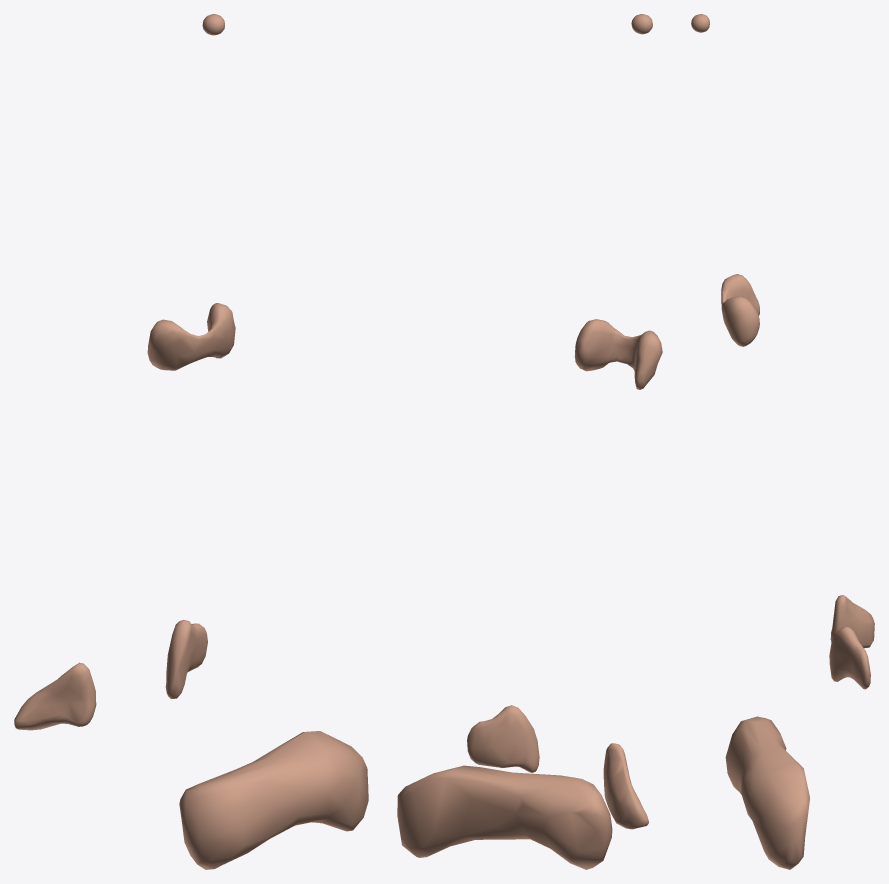
File: pediatric_child_5y_male.endocrine.LOD1.glb
3 views of the same model, side by side, from view 1: azimuth 30°, elevation 25°; view 2: azimuth 150°, elevation 25°; view 3: azimuth 270°, elevation 25° (orthographic). The views are drawn at different scales.
Parts seen in each view (by area): view 1: PEDIATRIC.CHILD_5Y.MALE.ENDOCRINE.PANCREAS, PEDIATRIC.CHILD_5Y.MALE.ENDOCRINE.THYROID, PEDIATRIC.CHILD_5Y.MALE.ENDOCRINE.ADRENAL.R, PEDIATRIC.CHILD_5Y.MALE.ENDOCRINE.ADRENAL.L; view 2: PEDIATRIC.CHILD_5Y.MALE.ENDOCRINE.PANCREAS, PEDIATRIC.CHILD_5Y.MALE.ENDOCRINE.THYROID, PEDIATRIC.CHILD_5Y.MALE.ENDOCRINE.ADRENAL.L, PEDIATRIC.CHILD_5Y.MALE.ENDOCRINE.ADRENAL.R; view 3: PEDIATRIC.CHILD_5Y.MALE.ENDOCRINE.PANCREAS, PEDIATRIC.CHILD_5Y.MALE.ENDOCRINE.THYROID, PEDIATRIC.CHILD_5Y.MALE.ENDOCRINE.ADRENAL.L, PEDIATRIC.CHILD_5Y.MALE.ENDOCRINE.ADRENAL.R.
Boxes of the visible parts, x1,y1,x2,y2 form: PEDIATRIC.CHILD_5Y.MALE.ENDOCRINE.PANCREAS: (179, 731, 368, 869); PEDIATRIC.CHILD_5Y.MALE.ENDOCRINE.THYROID: (147, 303, 235, 370); PEDIATRIC.CHILD_5Y.MALE.ENDOCRINE.ADRENAL.R: (14, 662, 96, 730); PEDIATRIC.CHILD_5Y.MALE.ENDOCRINE.ADRENAL.L: (165, 620, 207, 699); PEDIATRIC.CHILD_5Y.MALE.ENDOCRINE.PANCREAS: (397, 765, 612, 869); PEDIATRIC.CHILD_5Y.MALE.ENDOCRINE.THYROID: (574, 319, 662, 389); PEDIATRIC.CHILD_5Y.MALE.ENDOCRINE.ADRENAL.L: (467, 705, 539, 772); PEDIATRIC.CHILD_5Y.MALE.ENDOCRINE.ADRENAL.R: (603, 743, 648, 829); PEDIATRIC.CHILD_5Y.MALE.ENDOCRINE.PANCREAS: (725, 716, 809, 869); PEDIATRIC.CHILD_5Y.MALE.ENDOCRINE.THYROID: (721, 274, 759, 346); PEDIATRIC.CHILD_5Y.MALE.ENDOCRINE.ADRENAL.L: (829, 626, 870, 689); PEDIATRIC.CHILD_5Y.MALE.ENDOCRINE.ADRENAL.R: (830, 595, 874, 648).
Size of the model in its own units: 0.1276 by 0.3545 by 0.0762.
